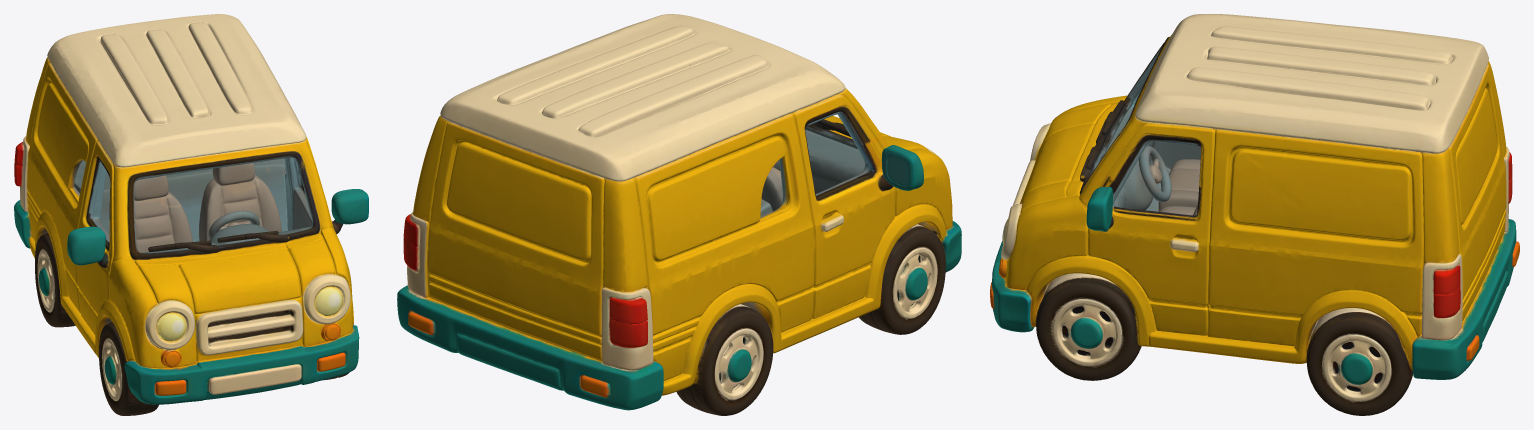
File: ToyVan.glb
The picture shows the model from 3 angles, left to right: view 1: azimuth 30°, elevation 25°; view 2: azimuth 150°, elevation 25°; view 3: azimuth 270°, elevation 25°; orthographic projection. The views are drawn at different scales.
Visible parts, largest first — view 1: tripo_node_0720262c-8608-4766-b22f-990b78674e5e; view 2: tripo_node_0720262c-8608-4766-b22f-990b78674e5e; view 3: tripo_node_0720262c-8608-4766-b22f-990b78674e5e.
Boxes of the visible parts, left/top/right/bottom form: tripo_node_0720262c-8608-4766-b22f-990b78674e5e: left=14, top=14, right=368, bottom=415; tripo_node_0720262c-8608-4766-b22f-990b78674e5e: left=397, top=14, right=961, bottom=415; tripo_node_0720262c-8608-4766-b22f-990b78674e5e: left=990, top=14, right=1519, bottom=415.
Size of the model in its own units: 0.7934 by 0.5837 by 0.9805.
1 material, 1 textured.
